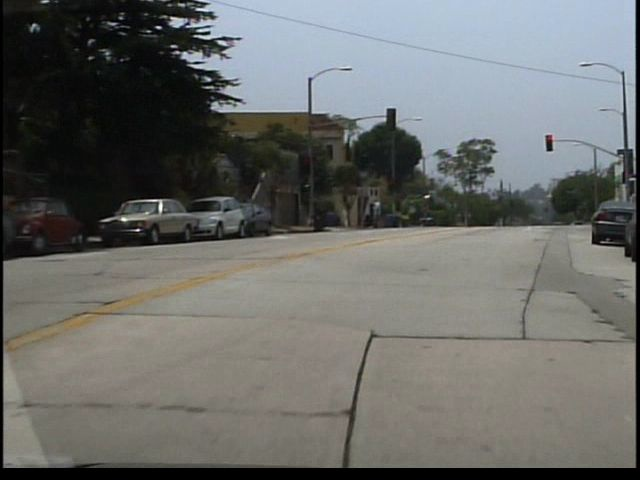person: (375, 199, 387, 231), (346, 204, 354, 230)
